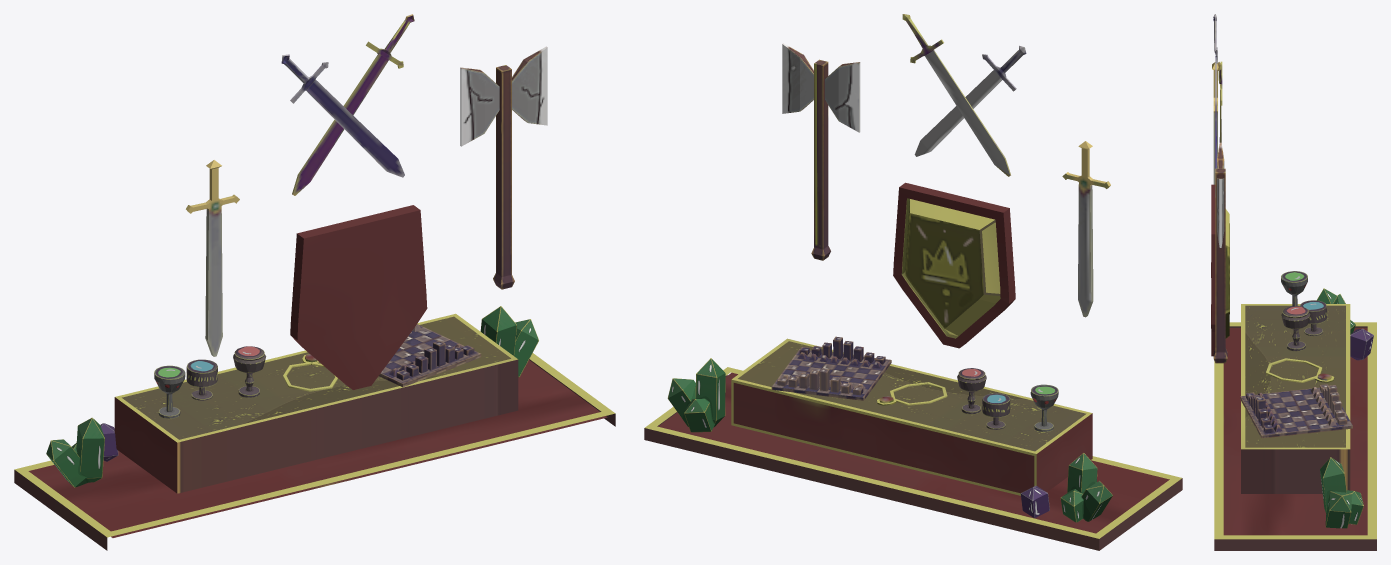
Rendered from knight.glb.
3 renders of one model, left to right at view 1: azimuth 30°, elevation 25°; view 2: azimuth 150°, elevation 25°; view 3: azimuth 270°, elevation 25°, orthographic. The views are drawn at different scales.
Visible parts, largest first — view 1: knight; view 2: knight; view 3: knight.
Boxes of the visible parts, x1=… form: knight: x1=14, y1=14, x2=615, y2=550; knight: x1=644, y1=14, x2=1182, y2=550; knight: x1=1211, y1=14, x2=1376, y2=550.
Bounding box in the file's own units: 6.31 × 5.45 × 2.04.
2 materials, 2 textured.
